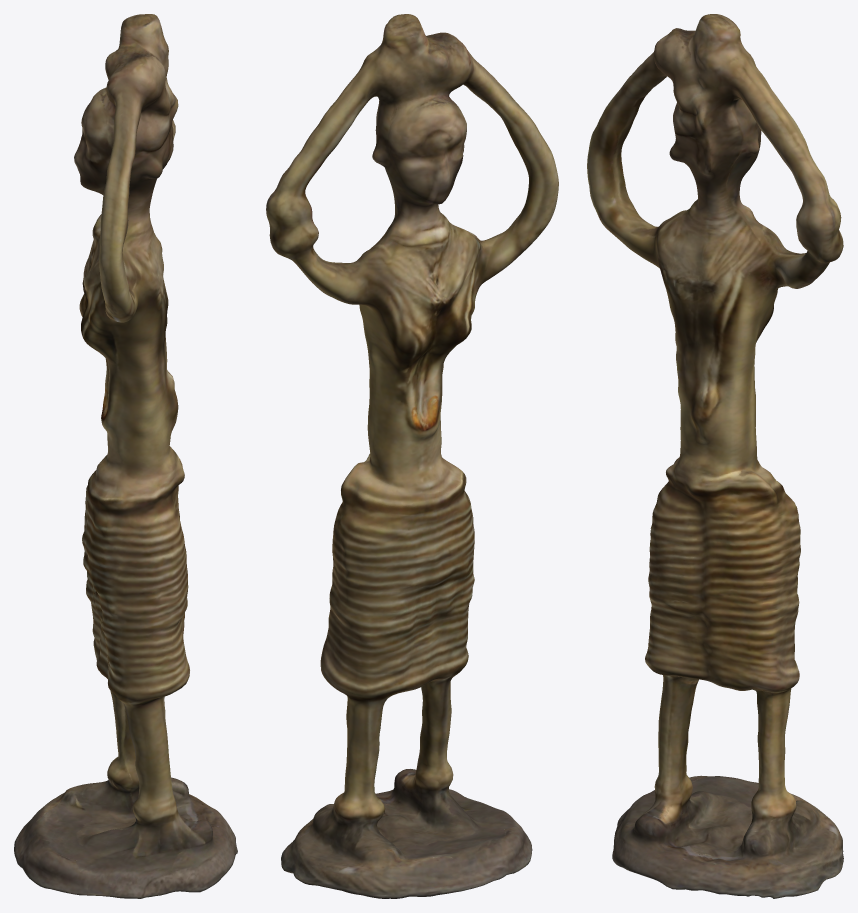
The model's file is dhokra2.glb.
3 renders of one model, left to right at view 1: azimuth 30°, elevation 25°; view 2: azimuth 150°, elevation 25°; view 3: azimuth 270°, elevation 25°, orthographic.
Size of the model in its own units: 0.5101 by 2 by 0.5531.
1 material, 1 textured.
